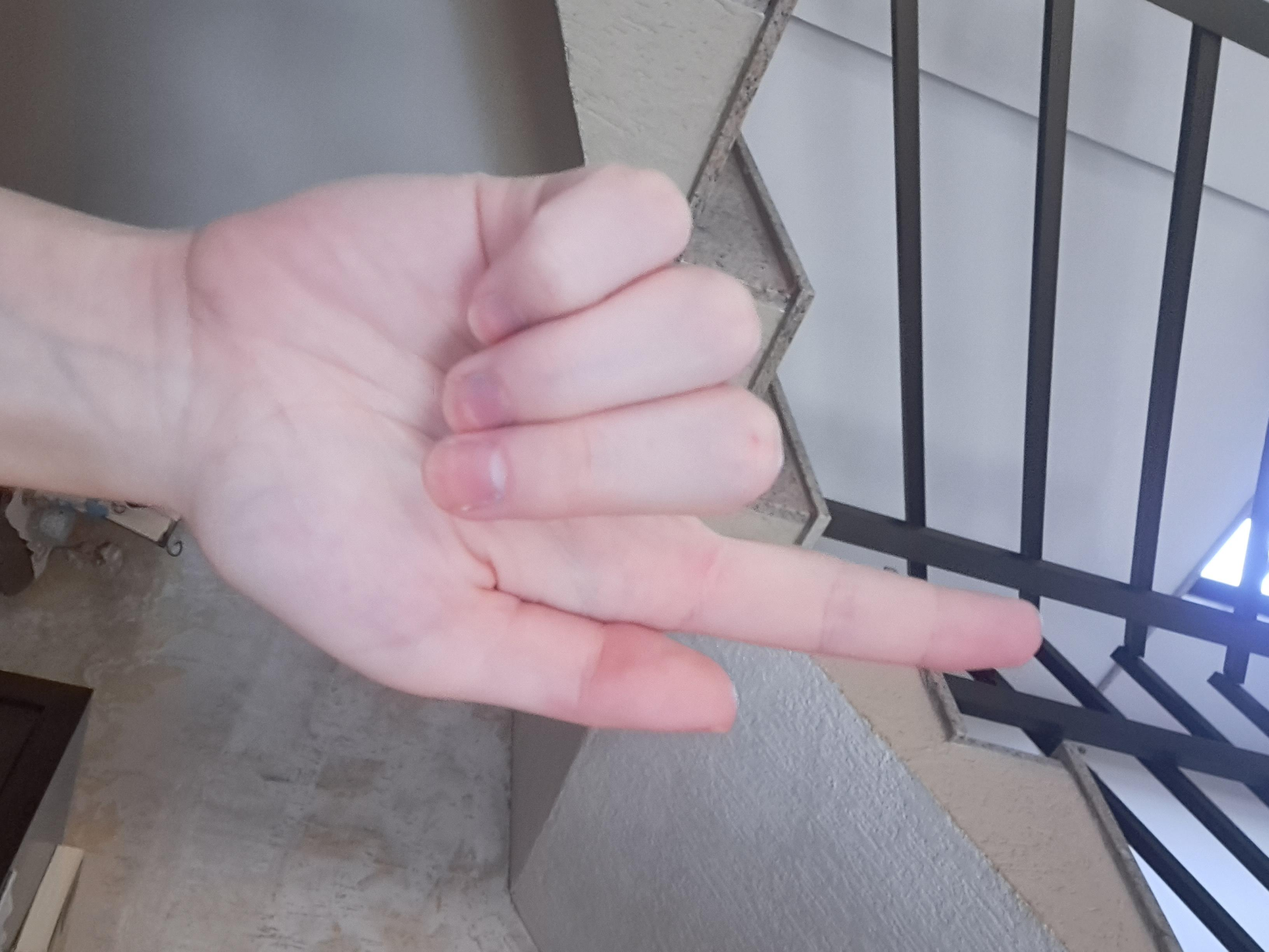G: (197, 163, 1011, 828)
